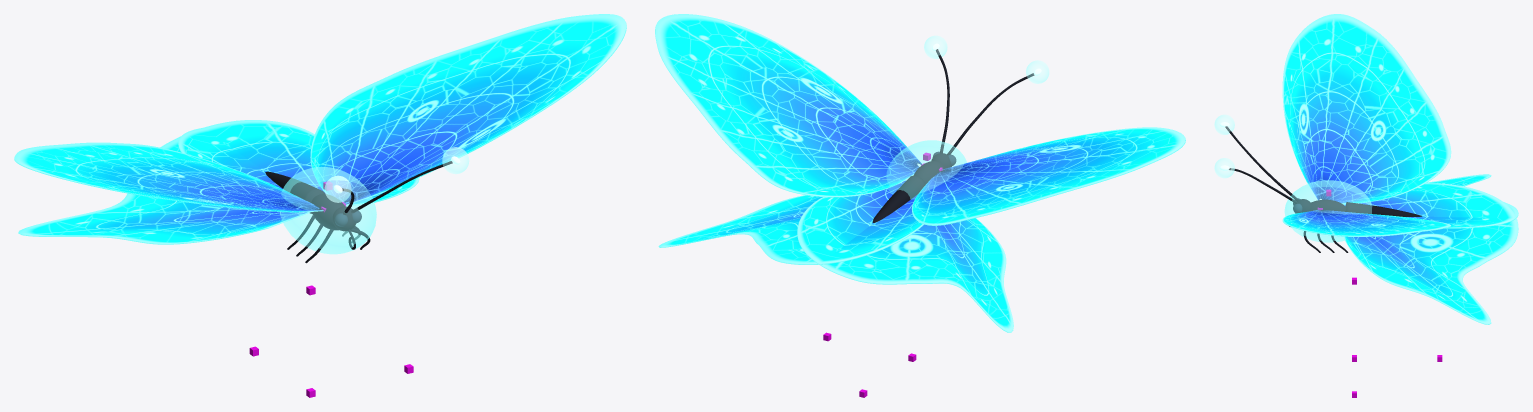
Rendered from 05_farfalla_glow.glb.
3 views of the same model, side by side, from view 1: azimuth 30°, elevation 25°; view 2: azimuth 150°, elevation 25°; view 3: azimuth 270°, elevation 25° (orthographic). The views are drawn at different scales.
Visible parts, largest first — view 1: Farfalla__Ala_Anteriore__AlaAnt_R, Farfalla__Ala_Posteriore__AlaPost_R, Farfalla__Ala_Anteriore__AlaAnt_L, Farfalla__Cuore_Luce, Farfalla__Corpo_Scuro, Farfalla__Ala_Posteriore__AlaPost_L, Farfalla__Aura_Antenna; view 2: Farfalla__Ala_Anteriore__AlaAnt_R, Farfalla__Ala_Anteriore__AlaAnt_L, Farfalla__Ala_Posteriore__AlaPost_R, Farfalla__Ala_Posteriore__AlaPost_L, Farfalla__Cuore_Luce, Farfalla__Corpo_Scuro, Farfalla__Aura_Antenna; view 3: Farfalla__Ala_Anteriore__AlaAnt_L, Farfalla__Ala_Posteriore__AlaPost_L, Farfalla__Ala_Anteriore__AlaAnt_R, Farfalla__Cuore_Luce, Farfalla__Corpo_Scuro, Farfalla__Ala_Posteriore__AlaPost_R, Farfalla__Aura_Antenna.
Boxes of the visible parts, x1=… form: Farfalla__Ala_Anteriore__AlaAnt_R: x1=310, y1=14, x2=626, y2=205; Farfalla__Ala_Posteriore__AlaPost_R: x1=18, y1=120, x2=325, y2=244; Farfalla__Ala_Anteriore__AlaAnt_L: x1=14, y1=142, x2=323, y2=212; Farfalla__Cuore_Luce: x1=279, y1=167, x2=376, y2=254; Farfalla__Corpo_Scuro: x1=265, y1=161, x2=452, y2=263; Farfalla__Ala_Posteriore__AlaPost_L: x1=178, y1=127, x2=419, y2=206; Farfalla__Aura_Antenna: x1=324, y1=147, x2=469, y2=202; Farfalla__Ala_Anteriore__AlaAnt_R: x1=655, y1=14, x2=921, y2=197; Farfalla__Ala_Anteriore__AlaAnt_L: x1=911, y1=127, x2=1185, y2=225; Farfalla__Ala_Posteriore__AlaPost_R: x1=797, y1=180, x2=1013, y2=332; Farfalla__Ala_Posteriore__AlaPost_L: x1=658, y1=194, x2=923, y2=264; Farfalla__Cuore_Luce: x1=886, y1=140, x2=966, y2=199; Farfalla__Corpo_Scuro: x1=872, y1=49, x2=1034, y2=222; Farfalla__Aura_Antenna: x1=924, y1=35, x2=1049, y2=83; Farfalla__Ala_Anteriore__AlaAnt_L: x1=1282, y1=14, x2=1451, y2=203; Farfalla__Ala_Posteriore__AlaPost_L: x1=1344, y1=183, x2=1518, y2=324; Farfalla__Ala_Anteriore__AlaAnt_R: x1=1282, y1=209, x2=1451, y2=236; Farfalla__Cuore_Luce: x1=1284, y1=180, x2=1371, y2=242; Farfalla__Corpo_Scuro: x1=1225, y1=126, x2=1421, y2=252; Farfalla__Ala_Posteriore__AlaPost_R: x1=1344, y1=174, x2=1518, y2=228; Farfalla__Aura_Antenna: x1=1214, y1=114, x2=1234, y2=178.
Bounding box in the file's own units: 9.23 × 4.58 × 5.34.
Materials: 8 (2 with a texture image).
